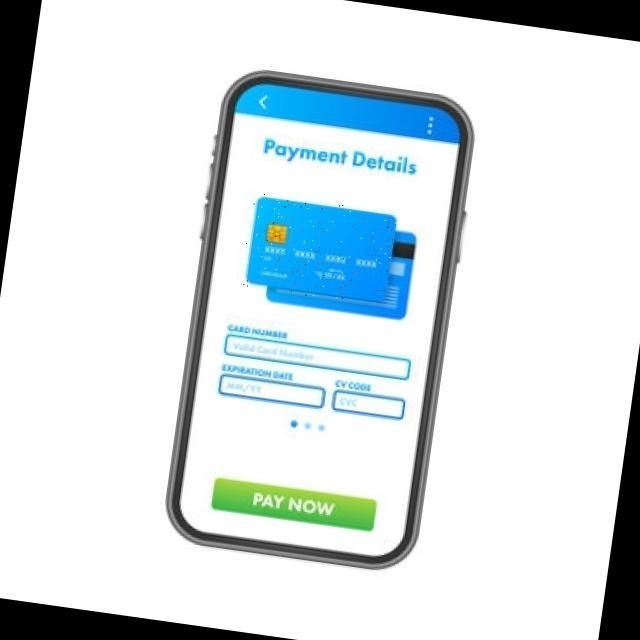payment_card: (244, 196, 399, 305)
